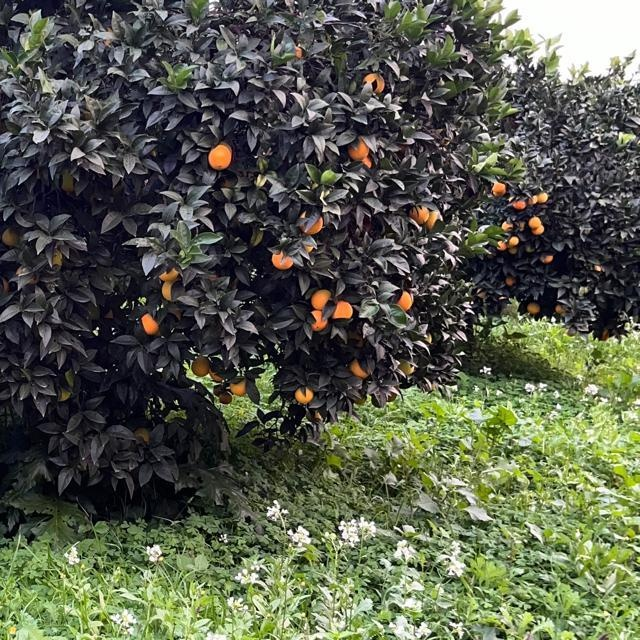orange: (298, 211, 324, 235), (47, 243, 69, 267), (140, 310, 160, 334), (209, 147, 229, 169), (395, 288, 415, 310), (270, 248, 294, 266), (363, 73, 383, 93), (227, 377, 247, 397), (333, 299, 353, 317), (294, 384, 314, 402), (311, 287, 331, 305), (160, 282, 182, 298), (1, 227, 19, 245), (410, 206, 426, 224), (349, 360, 367, 376), (58, 174, 74, 192), (18, 266, 36, 282), (310, 312, 326, 328), (352, 140, 366, 158), (528, 219, 544, 233), (156, 270, 178, 280), (194, 358, 206, 374), (134, 428, 150, 440), (306, 411, 322, 421), (401, 361, 413, 373), (209, 370, 223, 380), (430, 212, 440, 226), (492, 182, 504, 190), (295, 47, 303, 59), (1, 280, 9, 292), (220, 395, 230, 403), (528, 303, 538, 311), (501, 221, 511, 229), (537, 193, 547, 201), (384, 395, 396, 401), (497, 241, 505, 249), (510, 237, 518, 245), (602, 332, 610, 340), (476, 290, 484, 298), (515, 202, 525, 208), (542, 255, 552, 261), (365, 159, 371, 169), (214, 386, 222, 392), (493, 192, 505, 196), (528, 197, 536, 203), (555, 304, 561, 312), (304, 243, 310, 251), (506, 279, 512, 285), (594, 265, 600, 271), (509, 249, 517, 253)
